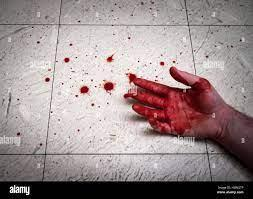Fire: (0, 0, 253, 182), (124, 67, 253, 170), (104, 82, 115, 92), (80, 86, 89, 94), (107, 55, 114, 62), (64, 58, 70, 63), (160, 62, 165, 66), (45, 78, 50, 82), (92, 104, 95, 107)
